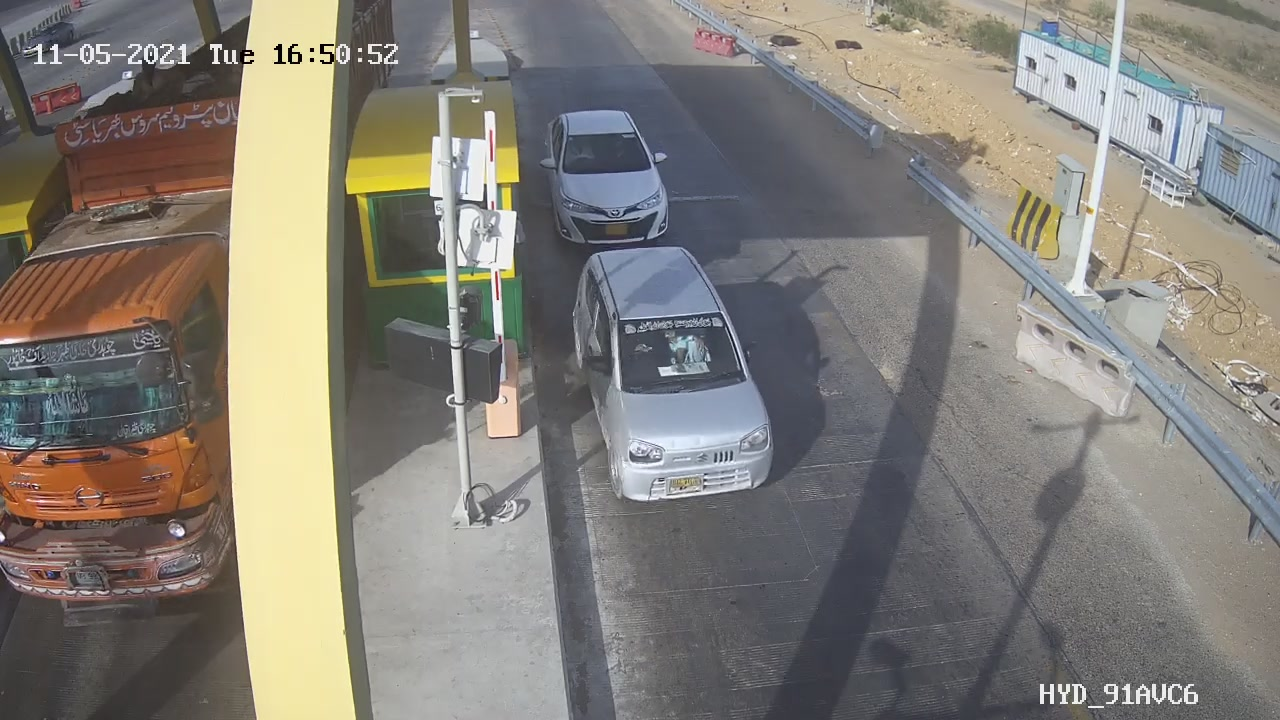F1: (553, 230, 794, 516), (529, 96, 687, 265)
